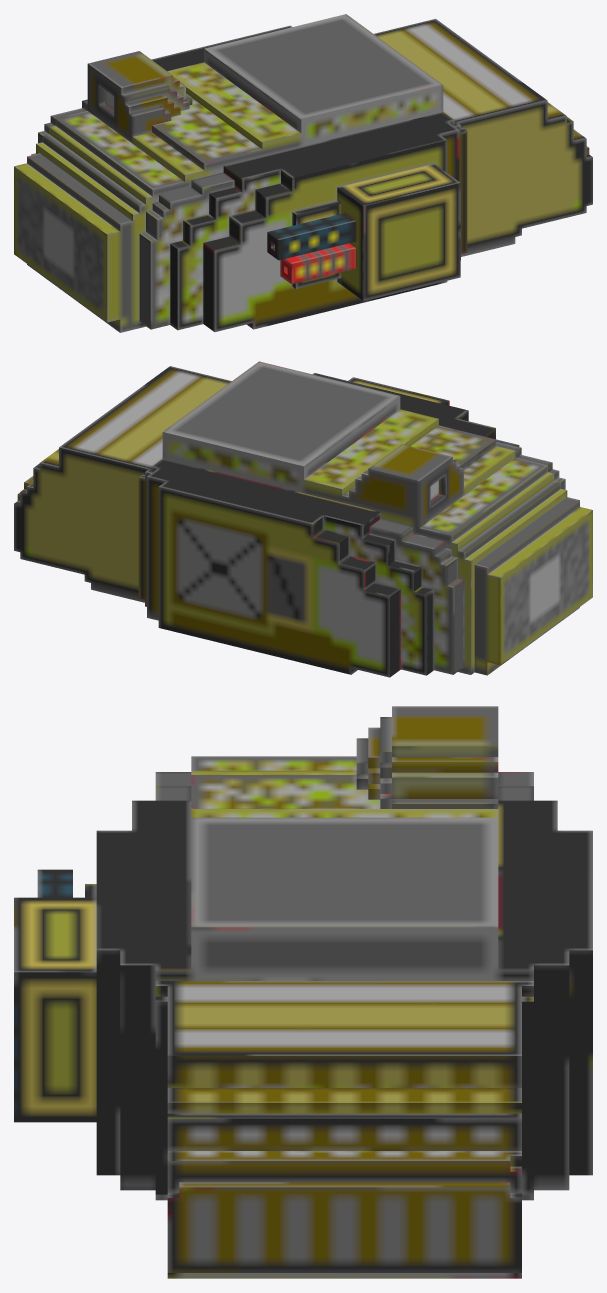
The model's file is turret .fbx.
The picture shows the model from 3 angles, top to bottom: view 1: azimuth 30°, elevation 25°; view 2: azimuth 150°, elevation 25°; view 3: azimuth 270°, elevation 25°; orthographic projection. The views are drawn at different scales.
Parts seen in each view (by area): view 1: Untitled; view 2: Untitled; view 3: Untitled.
Boxes of the visible parts, x1=… form: Untitled: x1=14, y1=14, x2=592, y2=332; Untitled: x1=14, y1=361, x2=592, y2=677; Untitled: x1=14, y1=706, x2=592, y2=1278.
Bounding box in the file's own units: 740 × 270 × 490.
Materials: 1 (1 with a texture image).
